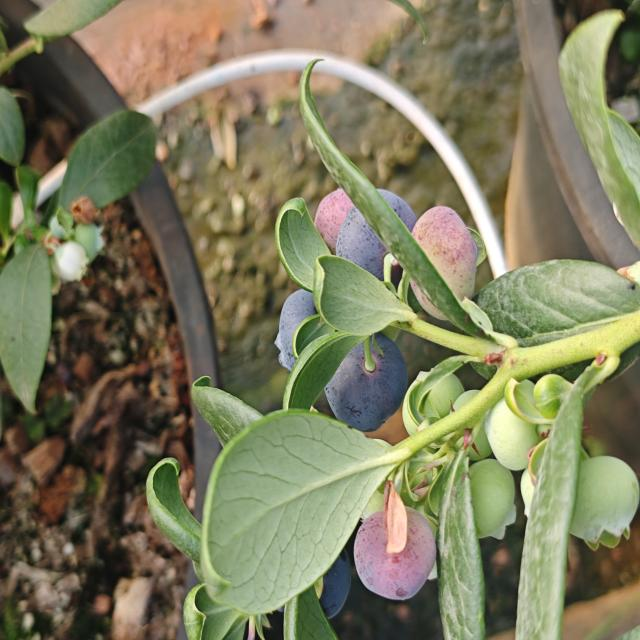ripe: (322, 329, 409, 435), (332, 185, 421, 288), (302, 548, 368, 629), (273, 284, 328, 364)
